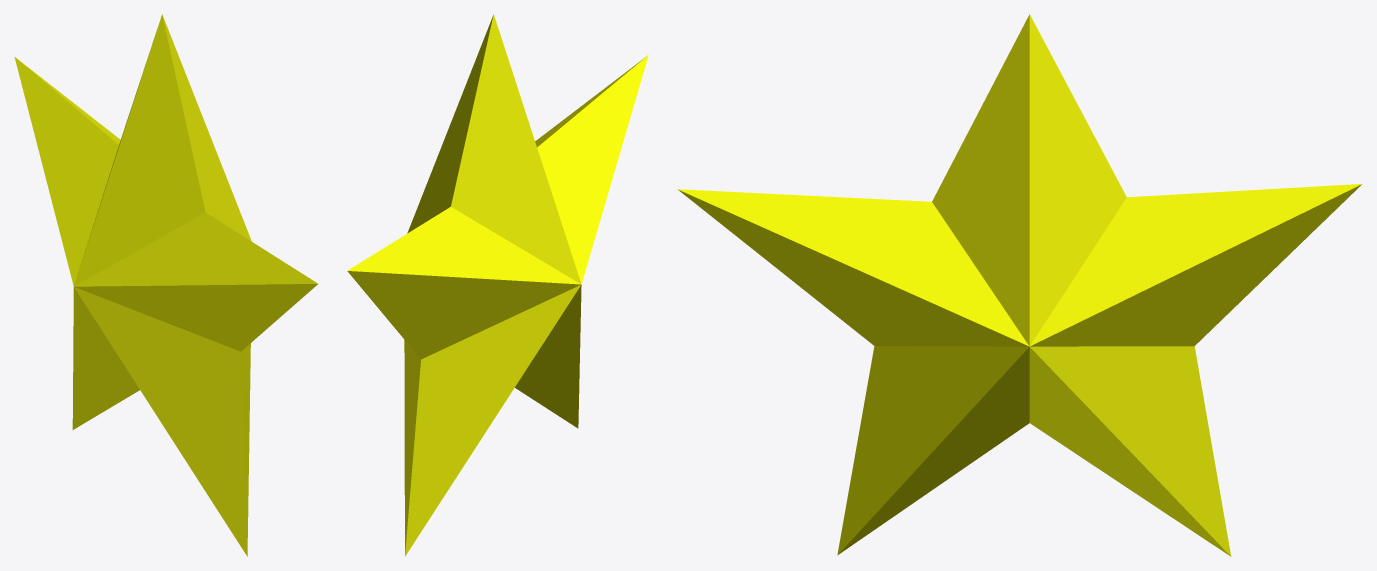
The model's file is Star.fbx.
3 renders of one model, left to right at view 1: azimuth 30°, elevation 25°; view 2: azimuth 150°, elevation 25°; view 3: azimuth 270°, elevation 25°, orthographic. The views are drawn at different scales.
Parts seen in each view (by area): view 1: Cube; view 2: Cube; view 3: Cube.
Boxes of the visible parts, x1,y1,x2,y2 form: Cube: [14, 14, 317, 556]; Cube: [347, 14, 648, 556]; Cube: [678, 14, 1362, 556].
Size of the model in its own units: 87.79 by 226 by 259.
